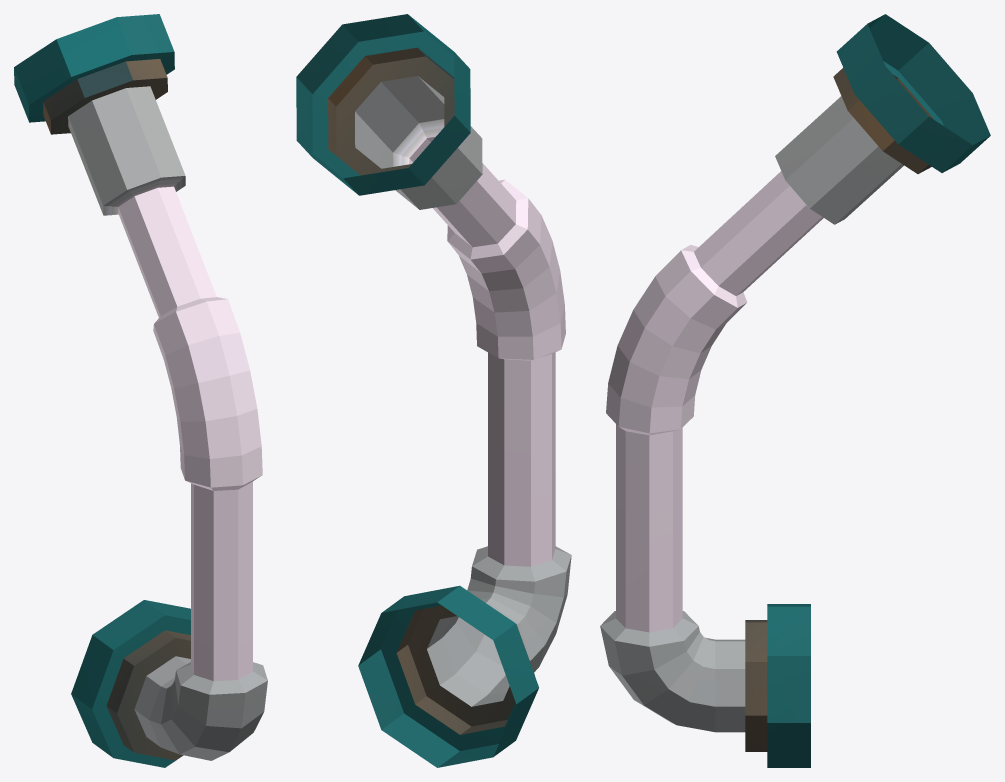
Rendered from Pipe_45_blue.fbx.
3 views of the same model, side by side, from view 1: azimuth 30°, elevation 25°; view 2: azimuth 150°, elevation 25°; view 3: azimuth 270°, elevation 25° (orthographic). The views are drawn at different scales.
Parts seen in each view (by area): view 1: Pipe_45_blue; view 2: Pipe_45_blue; view 3: Pipe_45_blue.
Boxes of the visible parts, x1,y1,x2,y2 form: Pipe_45_blue: [14, 14, 267, 767]; Pipe_45_blue: [296, 14, 571, 767]; Pipe_45_blue: [600, 14, 990, 767].
Bounding box in the file's own units: 32.45 × 152 × 72.62.
